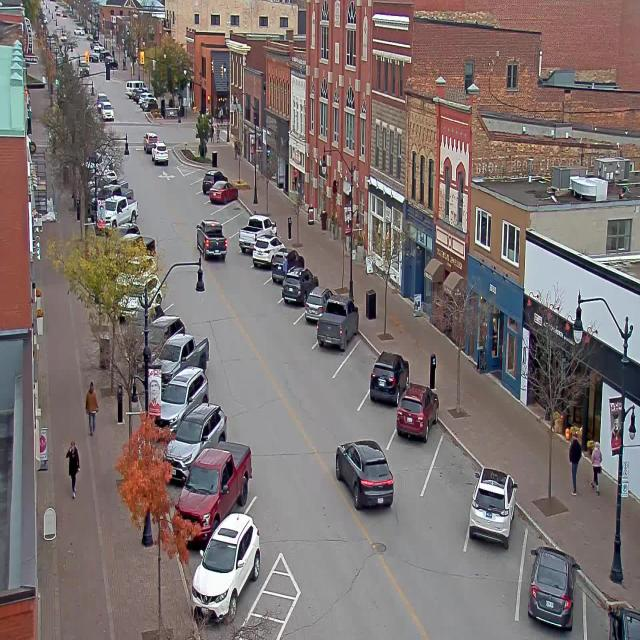available: (428, 432, 481, 512), (337, 333, 378, 396), (218, 194, 244, 222), (224, 210, 250, 233), (189, 167, 207, 182), (190, 178, 202, 194)
occupied: (192, 510, 261, 625), (175, 431, 259, 516), (163, 402, 227, 484), (526, 544, 580, 631), (468, 466, 517, 547), (158, 359, 216, 416), (153, 331, 210, 382), (395, 382, 438, 442), (316, 296, 358, 352), (594, 590, 639, 640), (368, 350, 408, 405), (238, 214, 276, 252), (281, 266, 318, 305), (303, 284, 332, 323), (248, 234, 276, 265), (269, 250, 297, 276), (209, 179, 236, 204), (200, 170, 221, 188)
